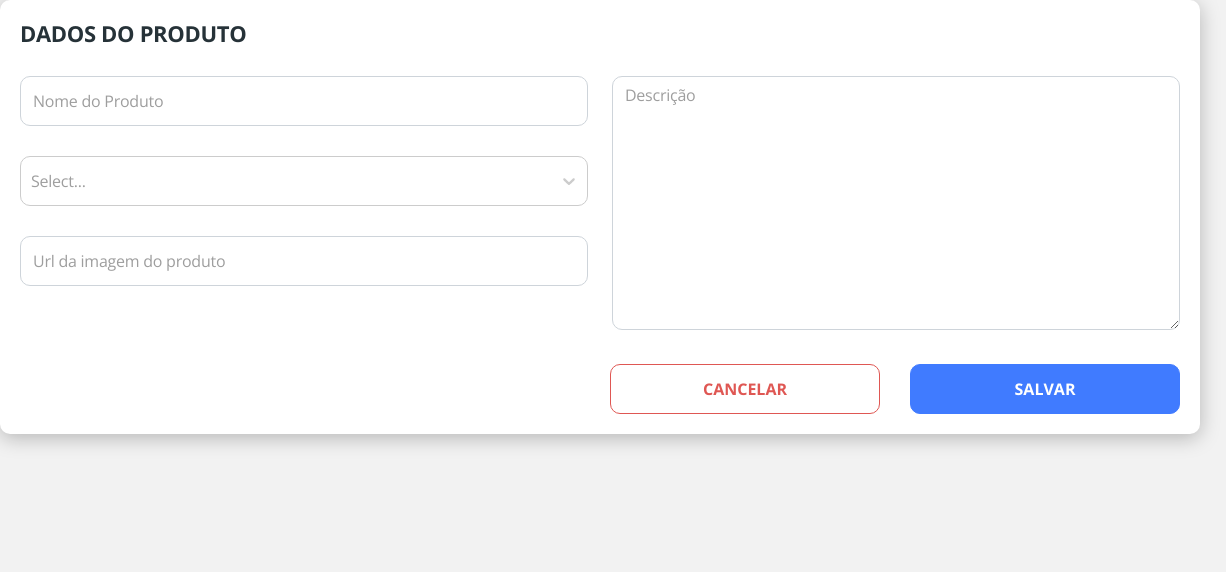
Product form create tests › Should show 5 validation messages when just clicking submit
The width and height of the screenshot is (1226, 572).
Click the button "SALVAR": [1045, 389] box left=910, top=364, right=1180, bottom=414
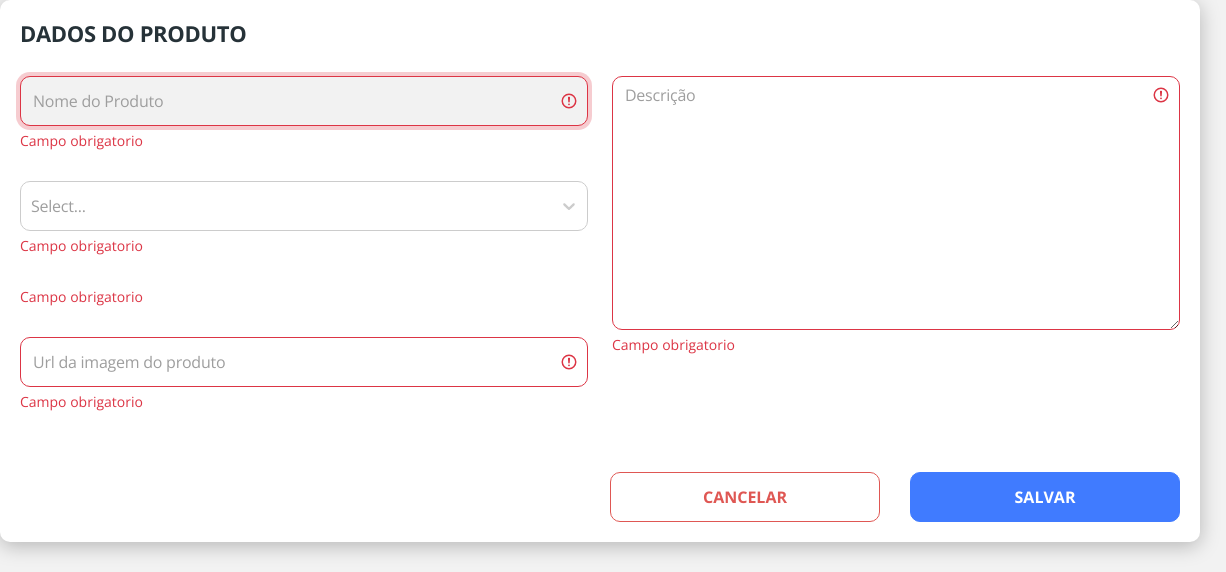
Result: the text "Campo obrigatorio" is shown 5 times at left=20, top=131, right=143, bottom=150; left=20, top=236, right=143, bottom=255; left=20, top=287, right=143, bottom=306; left=20, top=392, right=143, bottom=411; left=612, top=335, right=735, bottom=354
